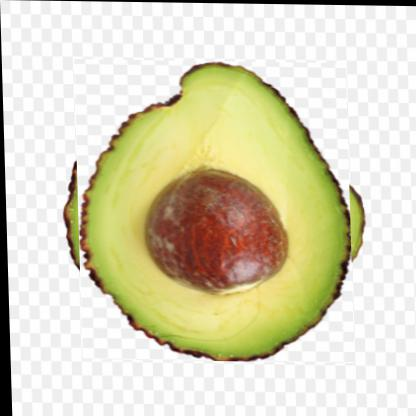avocado: (66, 66, 360, 356)
